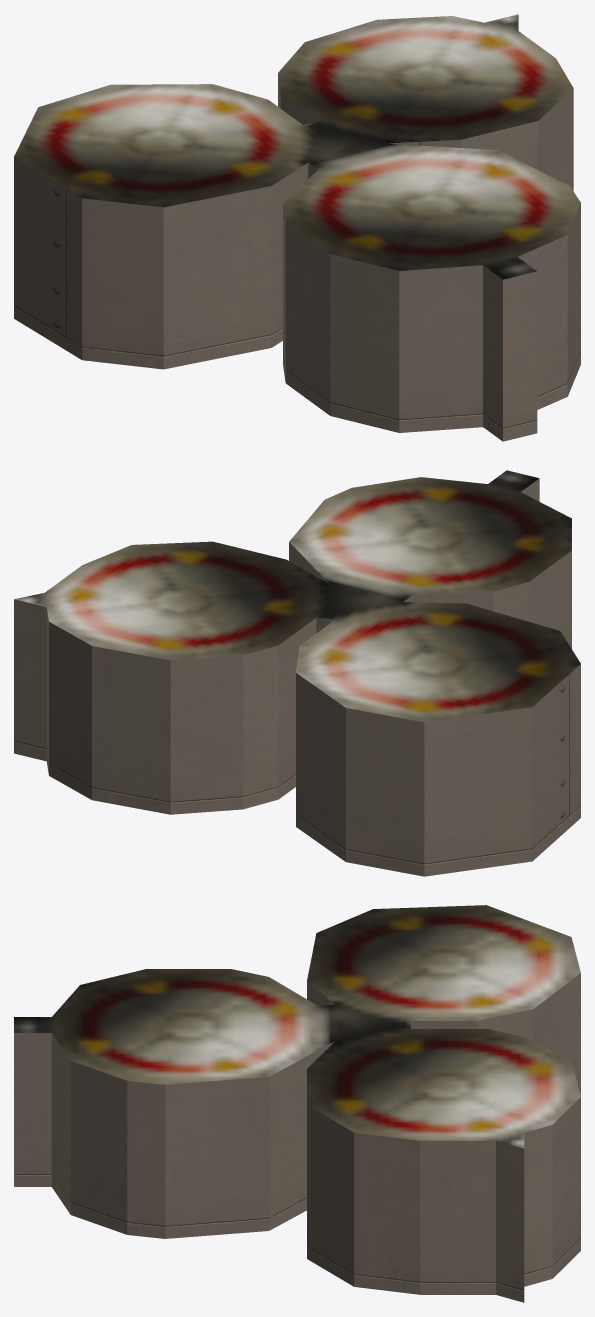
The model's file is fuel_tank_light_10.glb.
The picture shows the model from 3 angles, top to bottom: view 1: azimuth 30°, elevation 25°; view 2: azimuth 150°, elevation 25°; view 3: azimuth 270°, elevation 25°; orthographic projection. The views are drawn at different scales.
Parts seen in each view (by area): view 1: buildings/saxarba/fuel_tanks/fuel_tank_light_10; view 2: buildings/saxarba/fuel_tanks/fuel_tank_light_10; view 3: buildings/saxarba/fuel_tanks/fuel_tank_light_10.
Boxes of the visible parts, <box> form: buildings/saxarba/fuel_tanks/fuel_tank_light_10: <box>14,14,580,441</box>; buildings/saxarba/fuel_tanks/fuel_tank_light_10: <box>14,470,580,876</box>; buildings/saxarba/fuel_tanks/fuel_tank_light_10: <box>14,905,580,1302</box>.
Bounding box in the file's own units: 61 × 18 × 60.
